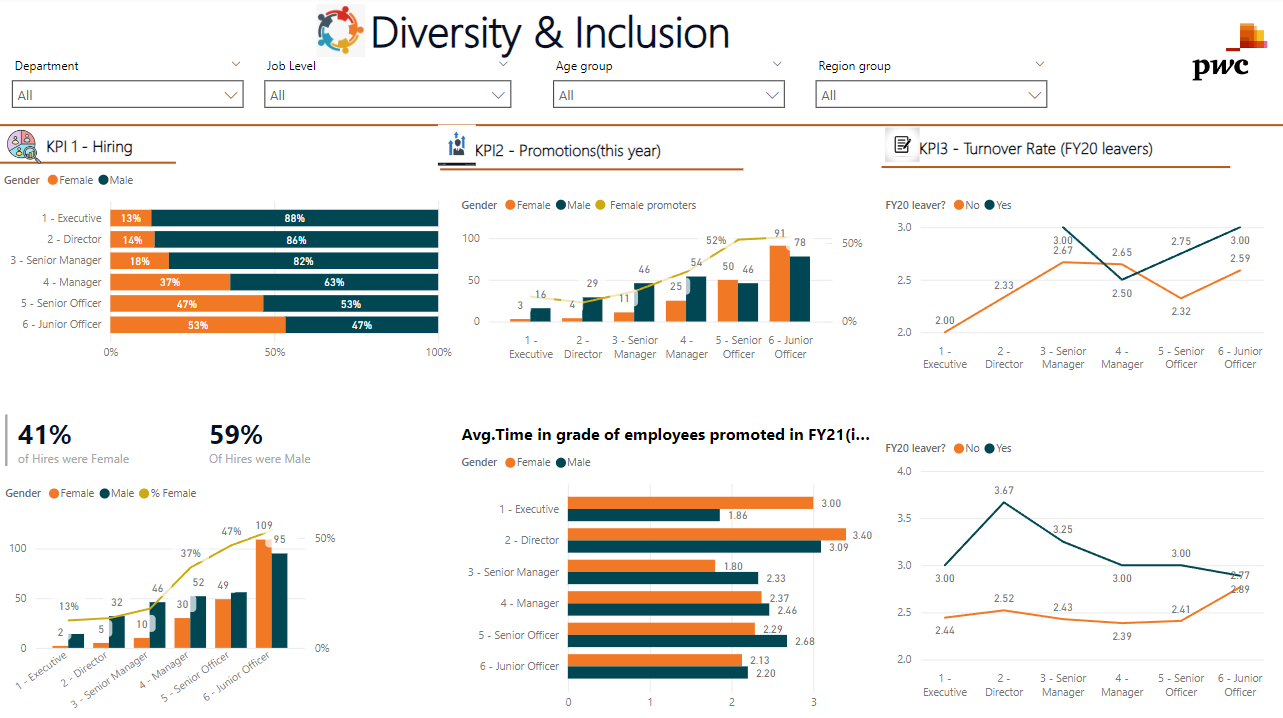

This screenshot's page, from the dashboard's own definition file:
{"tool":"powerbi","page":{"name":"Page 1","canvas":[1280,720],"ordinal":0},"visuals":[{"type":"textbox","box":[364.5,0,475.3,69.4],"z":0},{"type":"slicer","fields":{"Values":["Pharma.Last Department in FY20"]},"box":[2.7,56.1,251,97.5],"z":1000},{"type":"slicer","fields":{"Values":["Pharma.Job Level after FY20 promotions"]},"box":[253.7,56.1,265.7,97.5],"z":2000},{"type":"slicer","fields":{"Values":["Pharma.Age group"]},"box":[540.7,56.1,251,97.5],"z":3000},{"type":"slicer","fields":{"Values":["Pharma.Broad region group: nationality 1"]},"box":[802.3,56.1,251,97.5],"z":4000},{"type":"multiRowCard","fields":{"Values":["Pharma.% Female","Pharma.% Male"]},"box":[1.3,412,402.9,65.2],"z":5000},{"type":"lineClusteredColumnComboChart","fields":{"Category":["Pharma.Job Level after FY20 promotions"],"Y":["CountNonNull(Pharma.Employee ID)"],"Y2":["Pharma.% Female"],"Series":["Pharma.Gender"]},"box":[1.3,476.6,339.1,243],"z":6000},{"type":"lineClusteredColumnComboChart","fields":{"Y":["CountNonNull(Pharma.Employee ID)"],"Y2":["Pharma.% Female"],"Series":["Pharma.Gender"],"Category":["Pharma.Job Level after FY21 promotions"]},"box":[455.2,189.6,409.8,181.6],"z":7000},{"type":"hundredPercentStackedBarChart","fields":{"Category":["Pharma.Job Level after FY20 promotions"],"Y":["CountNonNull(Pharma.Employee ID)"],"Series":["Pharma.Gender"]},"box":[0,164.2,455.2,206.9],"z":8000},{"type":"clusteredBarChart","title":"Avg.Time in grade of employees promoted in FY21(in years)","fields":{"Category":["Pharma.Job Level after FY20 promotions"],"Series":["Pharma.Gender"],"Y":["Avg(Pharma.Time in Job Level @01.07.2020)"]},"box":[455.2,424.5,421.9,295],"z":9000},{"type":"lineChart","fields":{"Category":["Pharma.Job Level after FY20 promotions"],"Y":["Avg(Pharma.FY19 Performance Rating)"],"Series":["Pharma.FY20 leaver?"]},"box":[877.1,189.6,389.8,192.2],"z":10000},{"type":"lineChart","fields":{"Category":["Pharma.Job Level after FY20 promotions"],"Y":["Avg(Pharma.FY19 Performance Rating)"],"Series":["Pharma.FY20 leaver?"]},"box":[877.1,431.2,389.8,288.4],"z":11000},{"type":"textbox","box":[2.7,133.5,185.6,42.7],"z":12000},{"type":"shape","box":[0,122.8,1280.3,10.7],"z":13000},{"type":"textbox","box":[455,136.9,273.8,33.9],"z":14000},{"type":"textbox","box":[910.5,134.8,287,37.4],"z":15000},{"type":"image","box":[311.1,0,58.7,69.4],"z":16000},{"type":"image","box":[1182.8,10.7,84.1,89.4],"z":17000},{"type":"shape","box":[0,158.9,176.2,13.4],"z":18000},{"type":"shape","box":[439.2,169.5,301.7,6.7],"z":19000},{"type":"shape","box":[878.4,164.2,347.1,12],"z":20000},{"type":"image","box":[429.9,122.8,50.7,50.7],"z":21000},{"type":"image","box":[877.1,124.2,44.1,46.7],"z":22000},{"type":"image","box":[2.7,126.8,45.4,46.7],"z":23000}]}

Visuals, with their boxes in screenshot pixels (x1, y1, x2, y2), scaled from the page's 1280x720 canvas onto the 1283x718 screenshot:
textbox: (left=365, top=0, right=842, bottom=69)
slicer - Pharma.Last Department in FY20: (left=3, top=56, right=254, bottom=153)
slicer - Pharma.Job Level after FY20 promotions: (left=254, top=56, right=521, bottom=153)
slicer - Pharma.Age group: (left=542, top=56, right=794, bottom=153)
slicer - Pharma.Broad region group: nationality 1: (left=804, top=56, right=1056, bottom=153)
multiRowCard - Pharma.% Female x Pharma.% Male: (left=1, top=411, right=405, bottom=476)
lineClusteredColumnComboChart - Pharma.Job Level after FY20 promotions x CountNonNull(Pharma.Employee ID): (left=1, top=475, right=341, bottom=717)
lineClusteredColumnComboChart - CountNonNull(Pharma.Employee ID) x Pharma.% Female: (left=456, top=189, right=867, bottom=370)
hundredPercentStackedBarChart - Pharma.Job Level after FY20 promotions x CountNonNull(Pharma.Employee ID): (left=0, top=164, right=456, bottom=370)
"Avg.Time in grade of employees promoted in FY21(in years)" clusteredBarChart: (left=456, top=423, right=879, bottom=717)
lineChart - Pharma.Job Level after FY20 promotions x Avg(Pharma.FY19 Performance Rating): (left=879, top=189, right=1270, bottom=381)
lineChart - Pharma.Job Level after FY20 promotions x Avg(Pharma.FY19 Performance Rating): (left=879, top=430, right=1270, bottom=717)
textbox: (left=3, top=133, right=189, bottom=176)
shape: (left=0, top=122, right=1282, bottom=133)
textbox: (left=456, top=137, right=731, bottom=170)
textbox: (left=913, top=134, right=1200, bottom=172)
image: (left=312, top=0, right=371, bottom=69)
image: (left=1186, top=11, right=1270, bottom=100)
shape: (left=0, top=158, right=177, bottom=172)
shape: (left=440, top=169, right=743, bottom=176)
shape: (left=880, top=164, right=1228, bottom=176)
image: (left=431, top=122, right=482, bottom=173)
image: (left=879, top=124, right=923, bottom=170)
image: (left=3, top=126, right=48, bottom=173)
